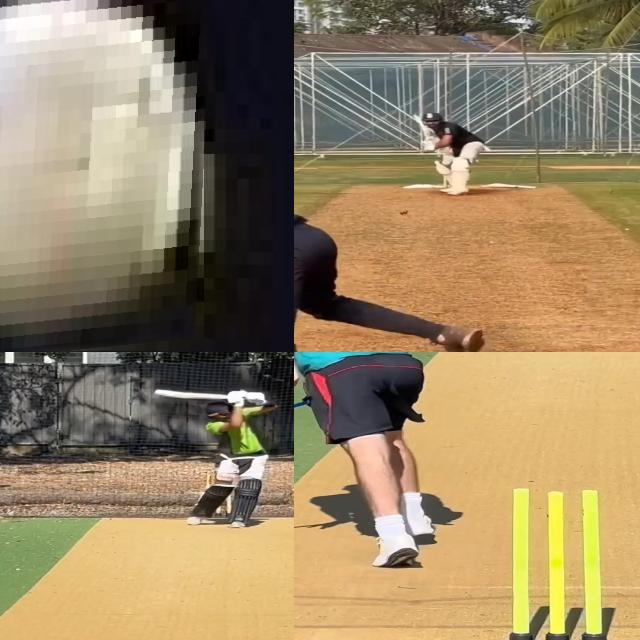Cricket ball: (0, 0, 214, 352), (398, 210, 408, 216)
Stumps: (493, 487, 620, 640)
